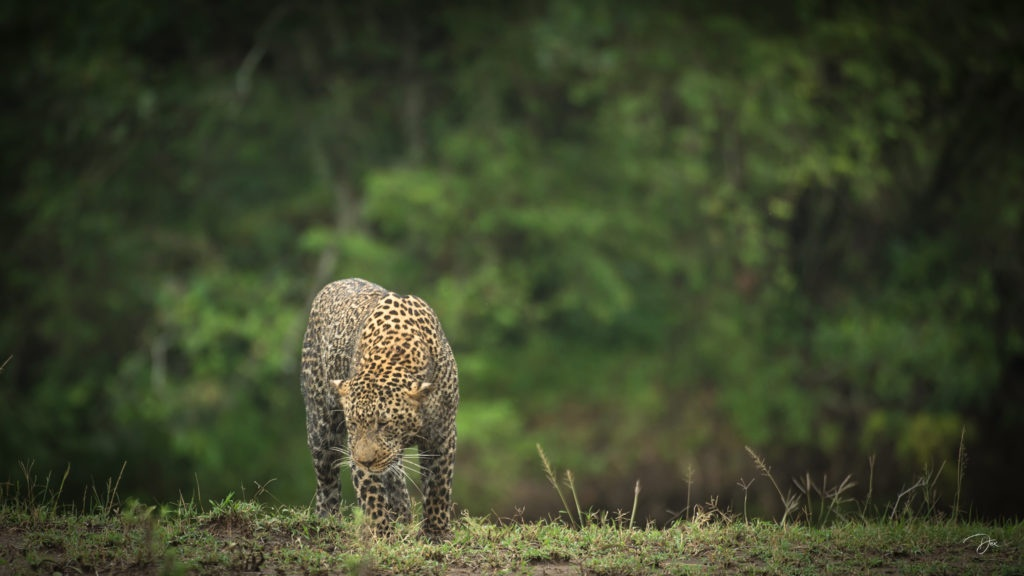leopard: (295, 270, 465, 551)
